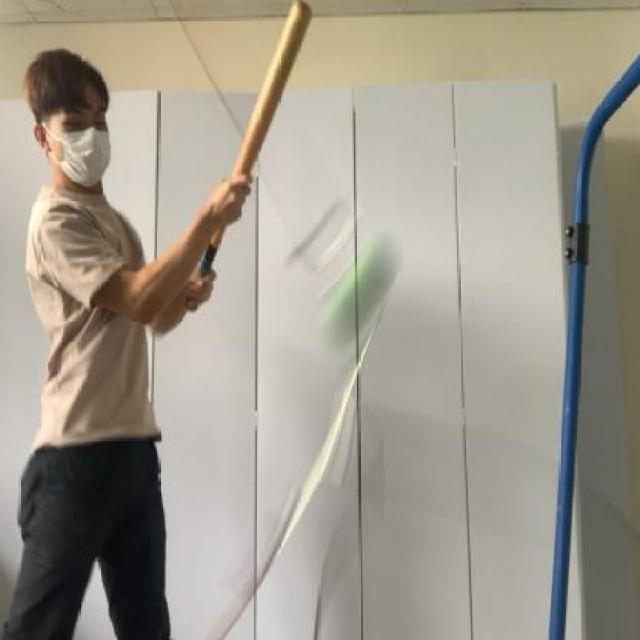baseball: (318, 224, 408, 356)
